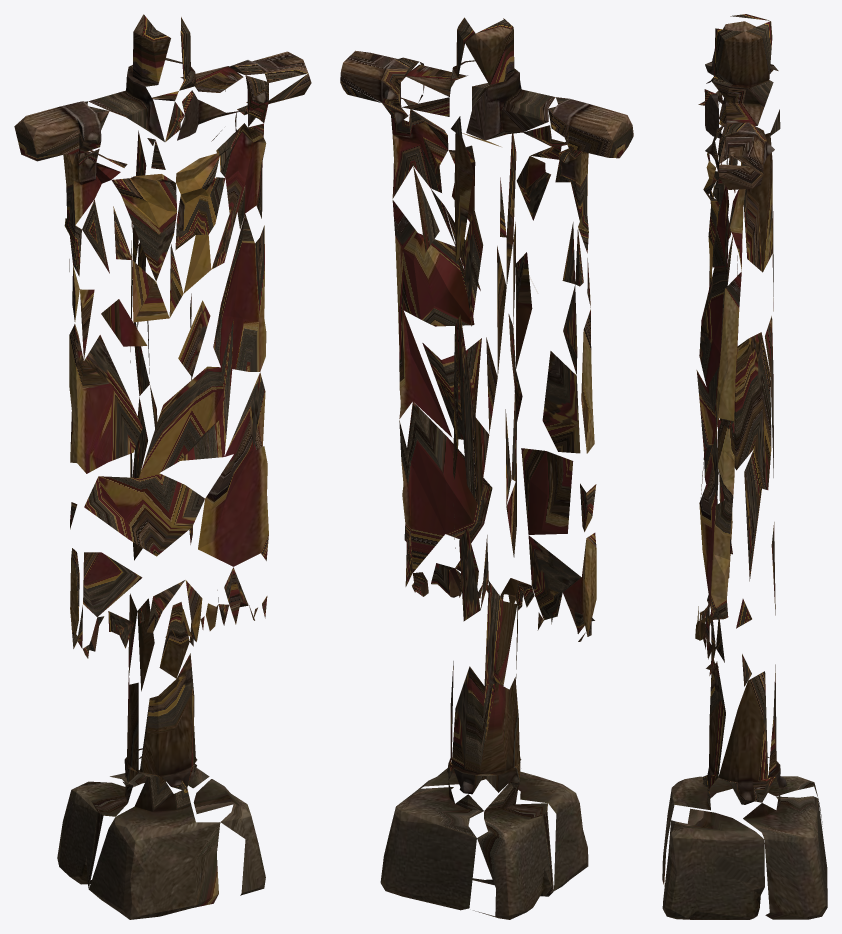
File: prp_bannerpole_a_LOD1.glb
The picture shows the model from 3 angles, left to right: view 1: azimuth 30°, elevation 25°; view 2: azimuth 150°, elevation 25°; view 3: azimuth 270°, elevation 25°; orthographic projection.
Parts seen in each view (by area): view 1: geometry_0; view 2: geometry_0; view 3: geometry_0.
Boxes of the visible parts, <box> form: geometry_0: <box>14,14,311,919</box>; geometry_0: <box>340,17,633,919</box>; geometry_0: <box>662,14,827,919</box>.
Size of the model in its own units: 1.35 by 4 by 0.6909.
1 material, 1 textured.
